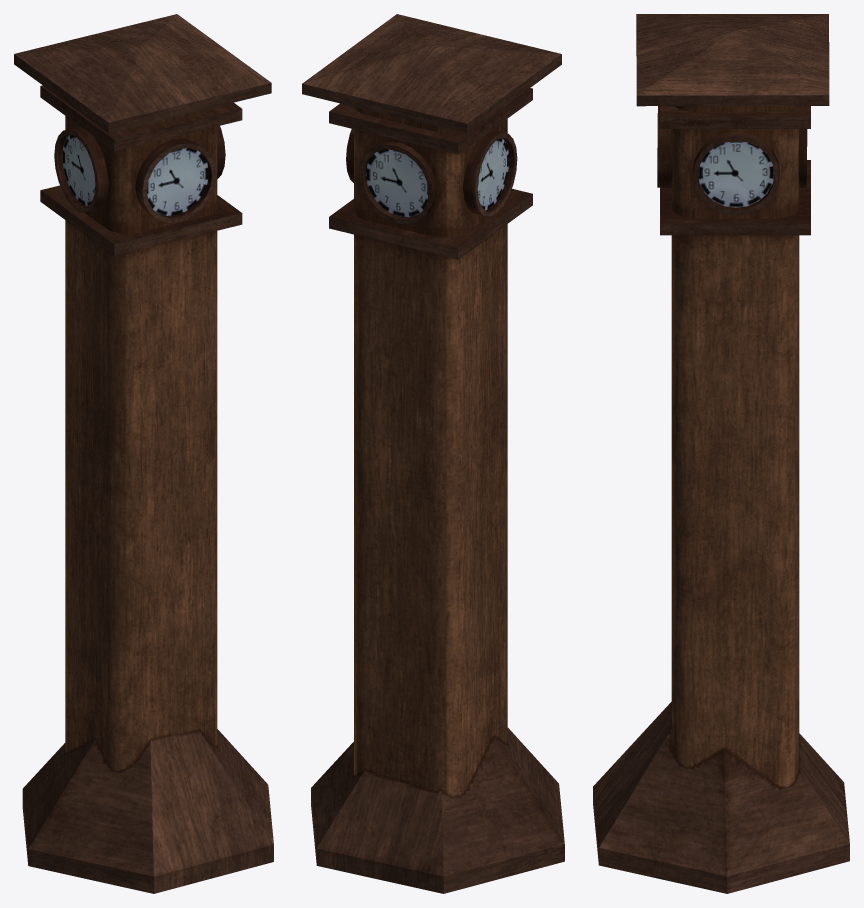
The model's file is Torre_relogio_madeira.glb.
3 renders of one model, left to right at view 1: azimuth 30°, elevation 25°; view 2: azimuth 150°, elevation 25°; view 3: azimuth 270°, elevation 25°, orthographic. The views are drawn at different scales.
Parts seen in each view (by area): view 1: pCone3; view 2: pCone3; view 3: pCone3.
Part boxes in pixels (x1,y1,x2,y2): pCone3: (14, 14, 273, 893); pCone3: (302, 14, 564, 893); pCone3: (593, 14, 849, 893).
Bounding box in the file's own units: 0.2235 × 0.6816 × 0.198.
1 material, 1 textured.
